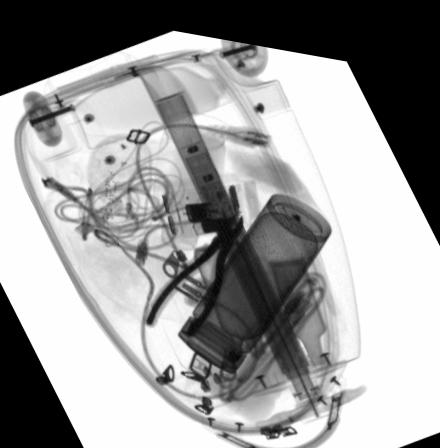Pliers: (142, 202, 244, 330)
